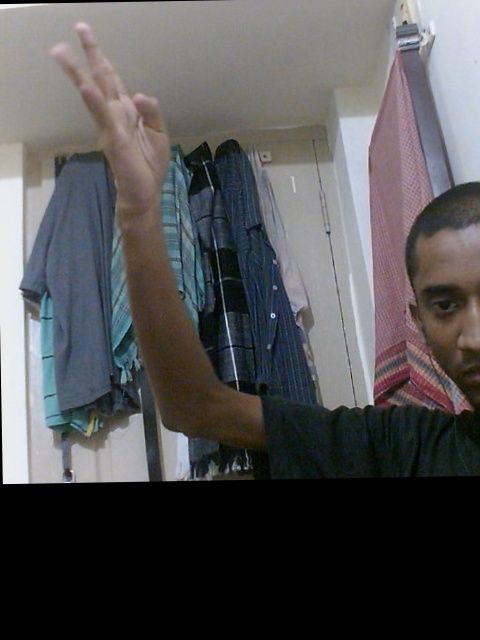hand: (46, 15, 179, 223)
